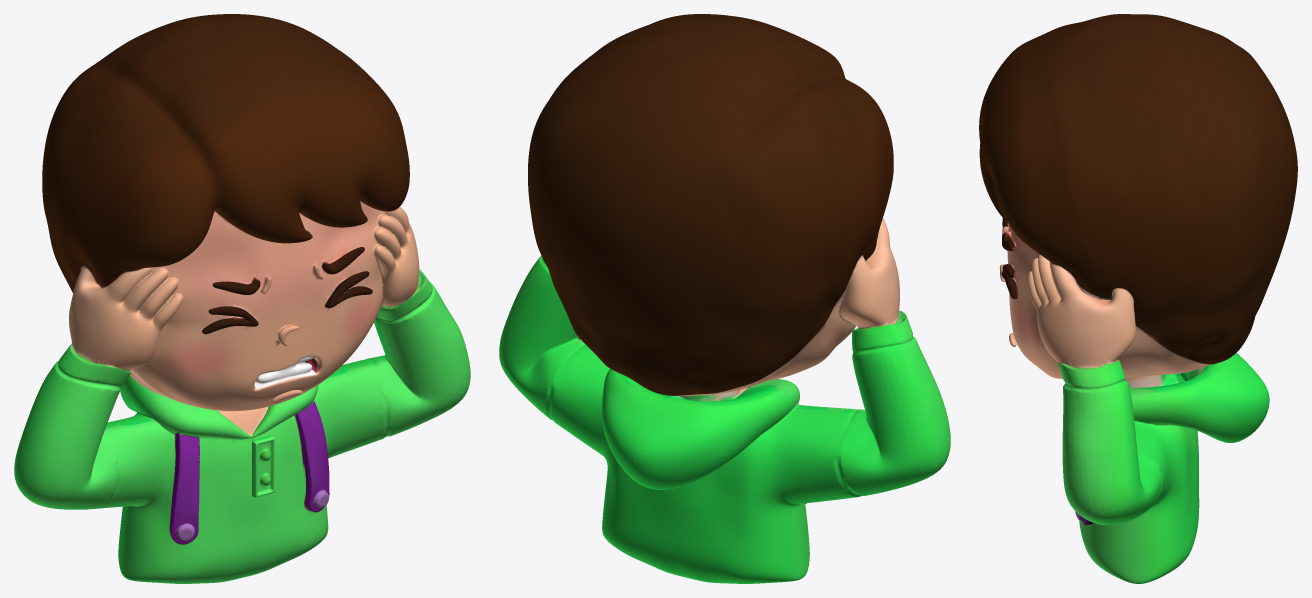
Rendered from Meshy_AI_dor_de_cabeça_0409200739_texture.fbx.
3 renders of one model, left to right at view 1: azimuth 30°, elevation 25°; view 2: azimuth 150°, elevation 25°; view 3: azimuth 270°, elevation 25°, orthographic. The views are drawn at different scales.
Parts seen in each view (by area): view 1: Mesh_0; view 2: Mesh_0; view 3: Mesh_0.
Part boxes in pixels (<box>): Mesh_0: <box>14,14,470,583</box>; Mesh_0: <box>499,14,950,583</box>; Mesh_0: <box>979,14,1297,583</box>.
Bounding box in the file's own units: 163 × 190 × 105.
Materials: 1 (1 with a texture image).
